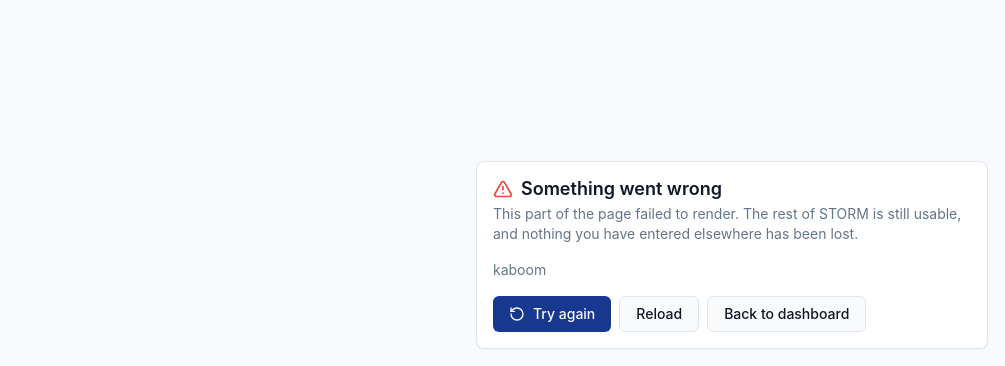
Test case: ErrorBoundary › recovers when the user retries and the child no longer throws
The image size is (1005, 366).
Expected: the text "kaboom" is shown, left=493, top=261, right=546, bottom=278
Click the button "Try again" at (552,314), box left=493, top=296, right=611, bottom=332
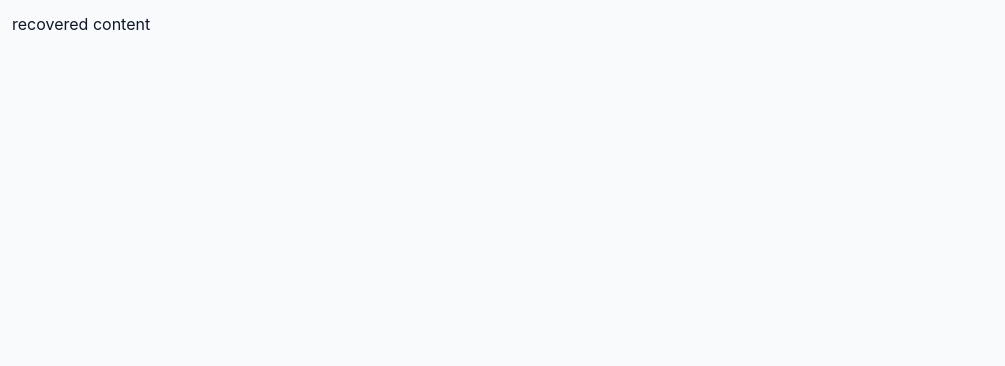
Expected: the text "recovered content" is shown, left=12, top=14, right=150, bottom=34
